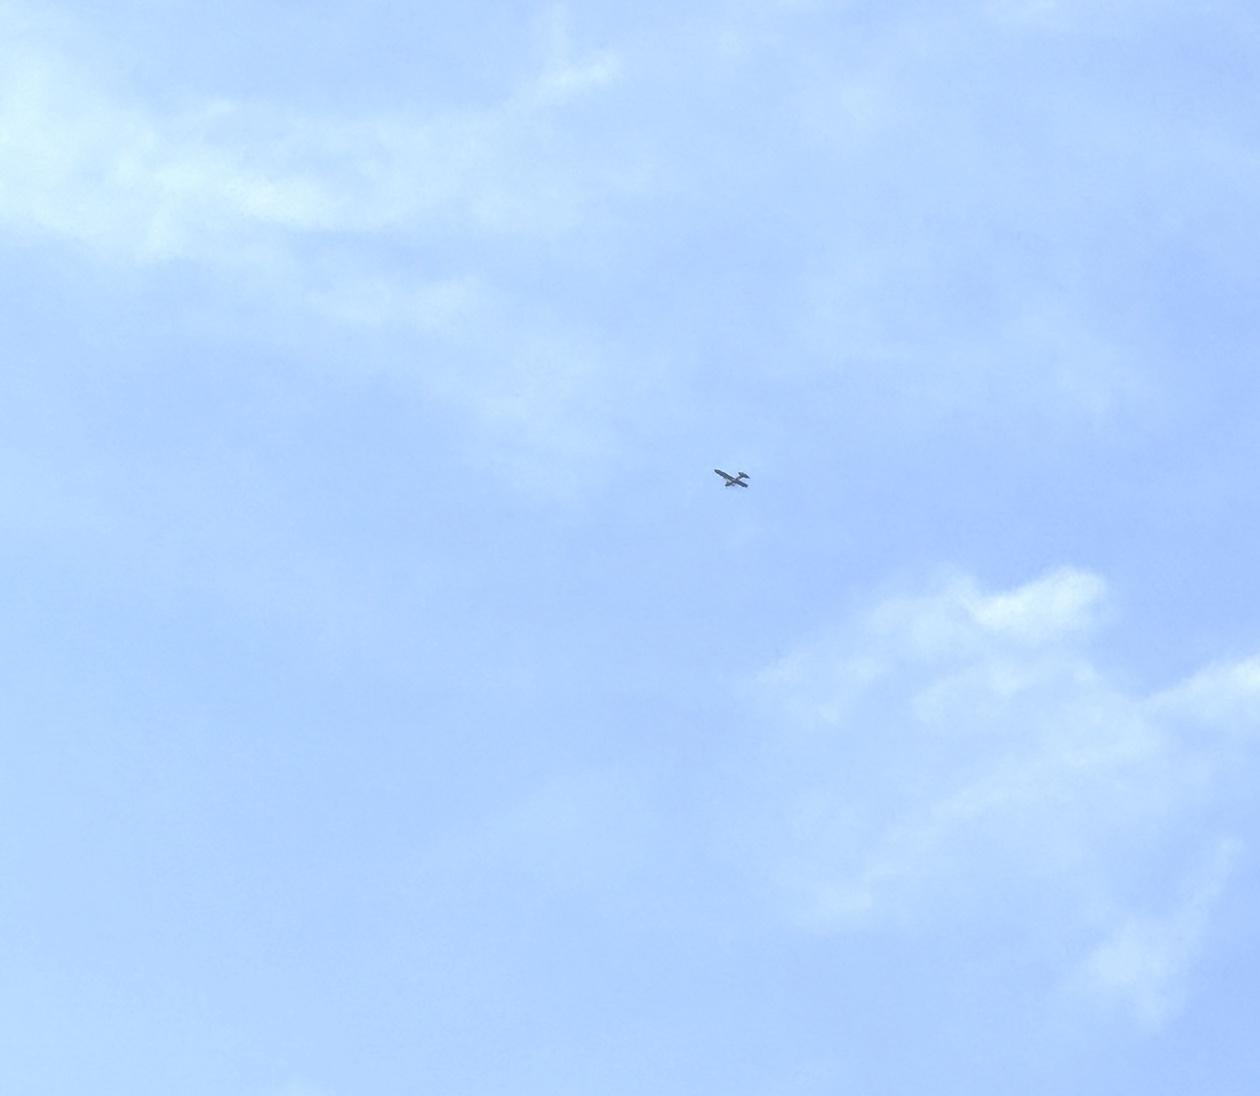Plane: (692, 451, 774, 506)
